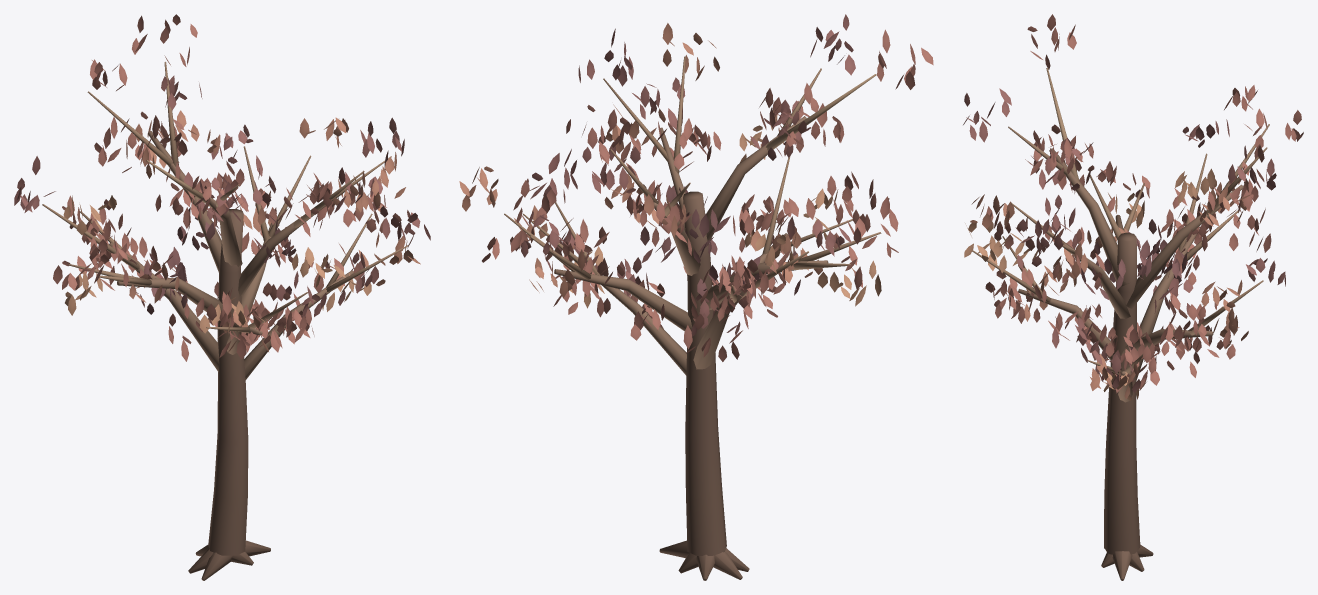
The model's file is tree_3d_05_red.glb.
The picture shows the model from 3 angles, left to right: view 1: azimuth 30°, elevation 25°; view 2: azimuth 150°, elevation 25°; view 3: azimuth 270°, elevation 25°; orthographic projection. The views are drawn at different scales.
Parts seen in each view (by area): view 1: tree_3d_05_red_foliage, tree_3d_05_red_wood; view 2: tree_3d_05_red_foliage, tree_3d_05_red_wood; view 3: tree_3d_05_red_foliage, tree_3d_05_red_wood.
Part boxes in pixels (x1,y1,x2,y2): tree_3d_05_red_foliage: (14,14,430,361); tree_3d_05_red_wood: (42,61,408,580); tree_3d_05_red_foliage: (459,14,933,361); tree_3d_05_red_wood: (504,56,881,580); tree_3d_05_red_foliage: (963,14,1303,400); tree_3d_05_red_wood: (972,68,1269,580).
Bounding box in the file's own units: 12.47 × 17.24 × 11.11.
